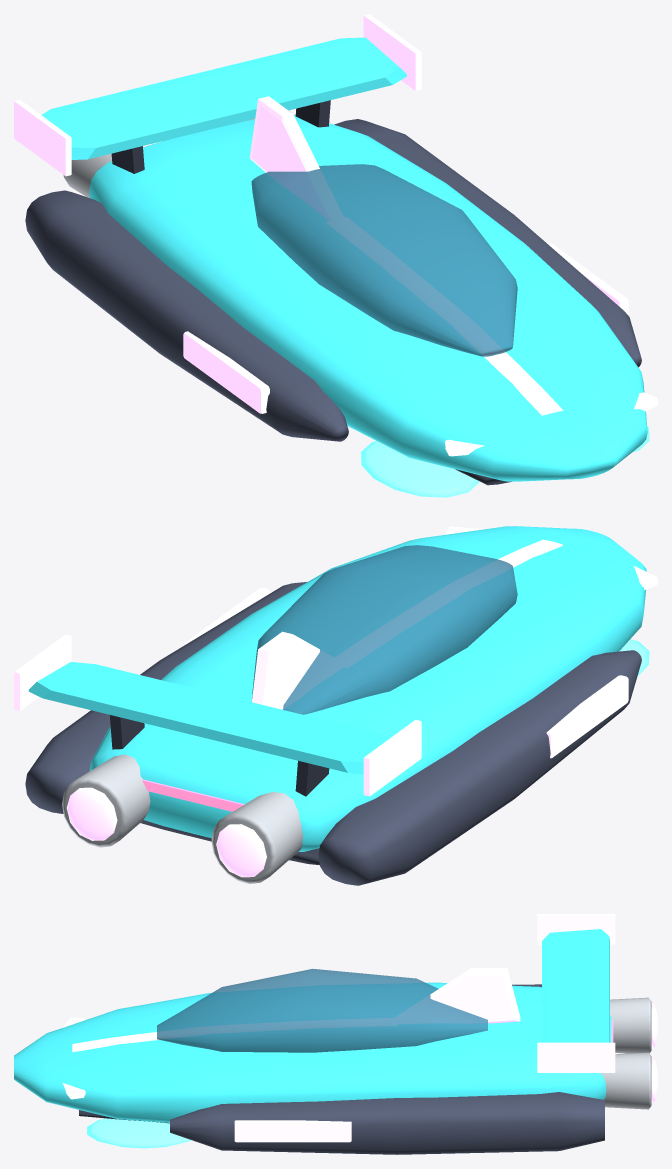
File: Pulse-GT-v3.0.0.glb
3 renders of one model, top to bottom at view 1: azimuth 30°, elevation 25°; view 2: azimuth 150°, elevation 25°; view 3: azimuth 270°, elevation 25°, orthographic. The views are drawn at different scales.
Visible parts, largest first — view 1: hull, canopy, sidePodR, rearWing, sidePodL, dorsalFin, centreStripe, hoverPadFrontR, intakeGlowR, wingEndplateR, wingEndplateL, thrusterR (+1 smaller); view 2: hull, canopy, sidePodR, rearWing, sidePodL, dorsalFin, thrusterR, thrusterL, centreStripe, intakeGlowR, wingEndplateR, thrusterCoreL (+7 smaller); view 3: hull, sidePodL, canopy, rearWing, dorsalFin, intakeGlowL, centreStripe, wingEndplateL, thrusterL, hoverPadFrontL, thrusterR, wingEndplateR.
Boxes of the visible parts, bbox=[...] form: hull: bbox=[89, 115, 647, 481]; canopy: bbox=[251, 164, 517, 356]; sidePodR: bbox=[25, 190, 348, 441]; rearWing: bbox=[41, 37, 406, 159]; sidePodL: bbox=[334, 119, 641, 367]; dorsalFin: bbox=[249, 96, 344, 221]; centreStripe: bbox=[327, 217, 563, 415]; hoverPadFrontR: bbox=[360, 441, 479, 497]; intakeGlowR: bbox=[183, 331, 269, 413]; wingEndplateR: bbox=[14, 99, 71, 176]; wingEndplateL: bbox=[363, 14, 421, 90]; thrusterR: bbox=[63, 153, 111, 197]; hull: bbox=[89, 526, 646, 851]; canopy: bbox=[252, 545, 517, 714]; sidePodR: bbox=[318, 650, 641, 885]; rearWing: bbox=[28, 662, 390, 774]; sidePodL: bbox=[25, 582, 306, 813]; dorsalFin: bbox=[252, 631, 344, 709]; thrusterR: bbox=[211, 792, 303, 883]; thrusterL: bbox=[62, 754, 150, 847]; centreStripe: bbox=[335, 539, 562, 667]; intakeGlowR: bbox=[546, 675, 628, 758]; wingEndplateR: bbox=[363, 720, 421, 796]; thrusterCoreL: bbox=[66, 787, 117, 840]; hull: bbox=[14, 982, 611, 1122]; sidePodL: bbox=[170, 1092, 604, 1154]; canopy: bbox=[157, 968, 487, 1052]; rearWing: bbox=[542, 929, 609, 1042]; dorsalFin: bbox=[393, 968, 520, 1023]; intakeGlowL: bbox=[234, 1120, 351, 1142]; centreStripe: bbox=[72, 1018, 396, 1052]; wingEndplateL: bbox=[537, 1042, 615, 1072]; thrusterL: bbox=[601, 1052, 651, 1109]; hoverPadFrontL: bbox=[87, 1118, 191, 1148]; thrusterR: bbox=[610, 997, 651, 1053]; wingEndplateR: bbox=[537, 914, 615, 944].
Size of the model in its own units: 2.48 by 1.15 by 4.96.
